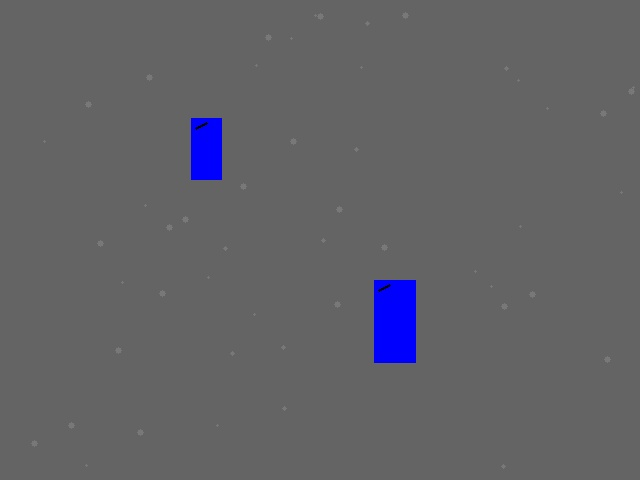motorcycle: (374, 280, 415, 362), (191, 118, 221, 179)
